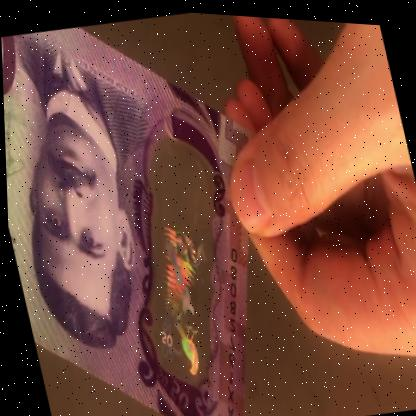50F: (118, 161, 231, 383)
